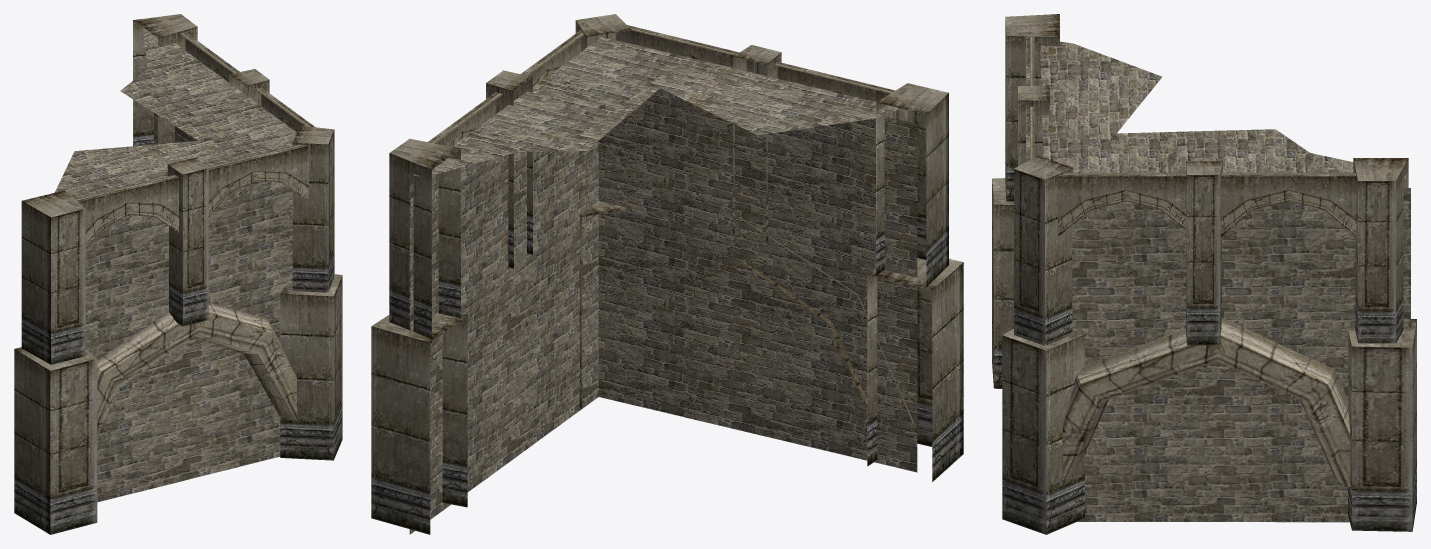
Rendered from SM_Plains_Ruin_BuildingLOD01.FBX.
3 views of the same model, side by side, from view 1: azimuth 30°, elevation 25°; view 2: azimuth 150°, elevation 25°; view 3: azimuth 270°, elevation 25° (orthographic). The views are drawn at different scales.
Visible parts, largest first — view 1: SM_Plains_Ruin_BuildingLOD01a, SM_Plains_Ruin_BuildingLOD01b; view 2: SM_Plains_Ruin_BuildingLOD01b, SM_Plains_Ruin_BuildingLOD01a; view 3: SM_Plains_Ruin_BuildingLOD01a, SM_Plains_Ruin_BuildingLOD01b.
Part boxes in pixels (bbox=[...]): SM_Plains_Ruin_BuildingLOD01a: bbox=[14, 14, 342, 534]; SM_Plains_Ruin_BuildingLOD01b: bbox=[55, 28, 296, 502]; SM_Plains_Ruin_BuildingLOD01b: bbox=[409, 37, 917, 534]; SM_Plains_Ruin_BuildingLOD01a: bbox=[371, 14, 963, 534]; SM_Plains_Ruin_BuildingLOD01a: bbox=[992, 14, 1416, 534]; SM_Plains_Ruin_BuildingLOD01b: bbox=[1040, 41, 1410, 522].
Size of the model in its own units: 508 by 480 by 516.
